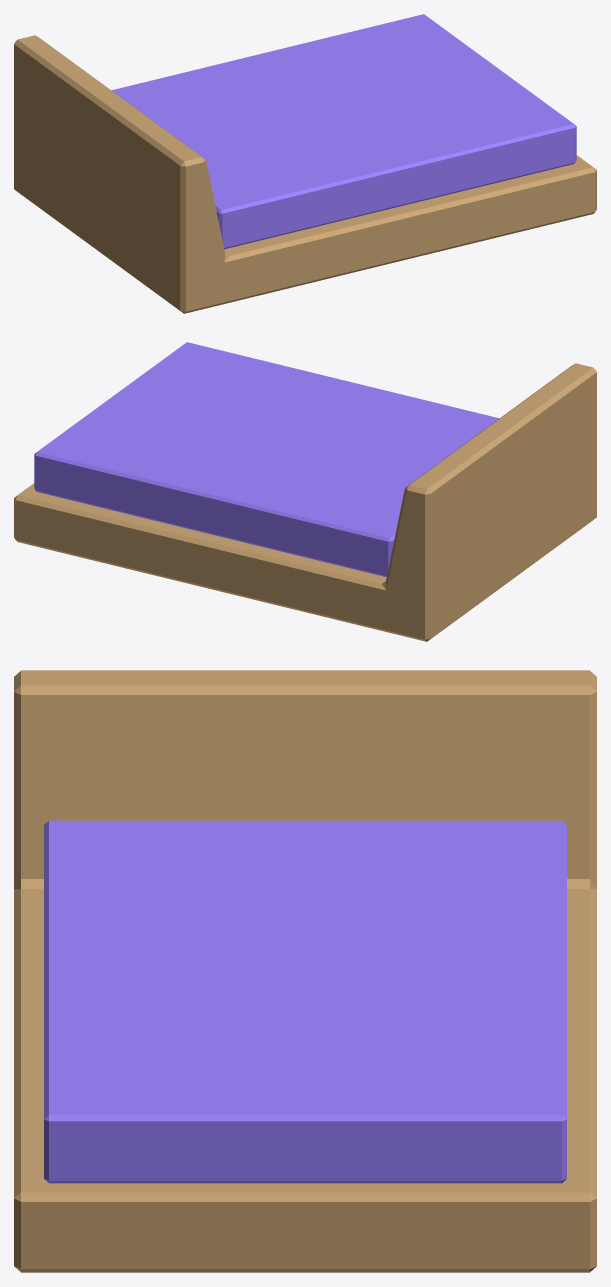
File: bed3.fbx
3 views of the same model, one above another, from view 1: azimuth 30°, elevation 25°; view 2: azimuth 150°, elevation 25°; view 3: azimuth 270°, elevation 25° (orthographic). The views are drawn at different scales.
Parts seen in each view (by area): view 1: bed3; view 2: bed3; view 3: bed3.
Part boxes in pixels (left/top/right/bottom): bed3: left=14, top=14, right=596, bottom=313; bed3: left=14, top=342, right=596, bottom=641; bed3: left=14, top=670, right=596, bottom=1272.
Size of the model in its own units: 234 by 85 by 166.
